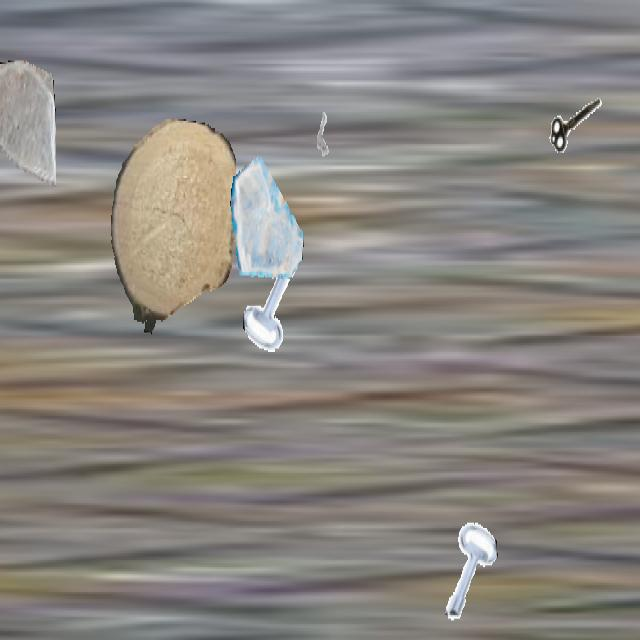glass: (230, 151, 304, 283), (0, 60, 55, 192)
metal: (243, 247, 305, 357), (438, 516, 498, 622), (547, 74, 605, 178), (304, 92, 342, 160), (0, 76, 4, 186)
wood: (111, 119, 235, 336)
